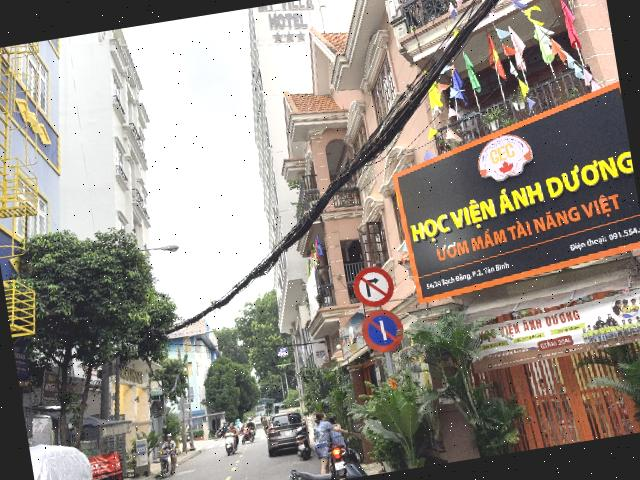cam-do-xe-ngay-le: (358, 306, 406, 354)
cam-re-phai: (351, 264, 396, 310)
